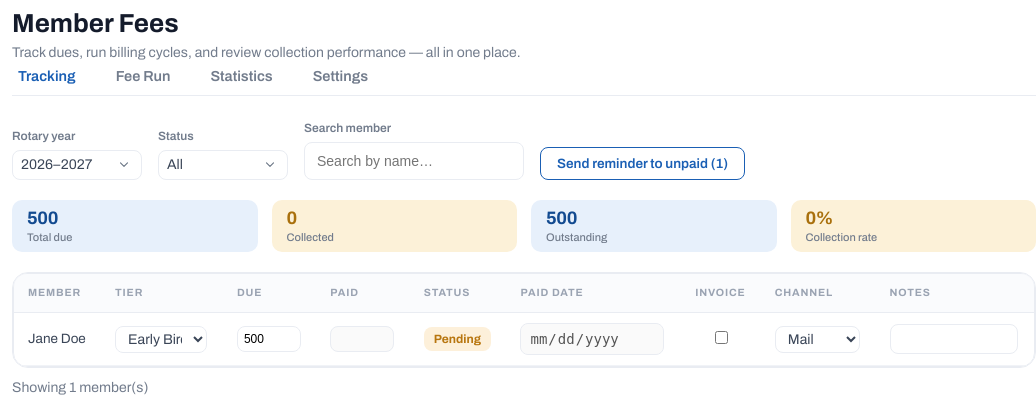
MemberFees › Tracking tab › amends the tier and due amount, and Total Due reflects the change
The width and height of the screenshot is (1036, 412).
Select "Sponsored" in the dropdown named "tier for jane doe" at {"x": 161, "y": 339}, box left=115, top=326, right=207, bottom=353
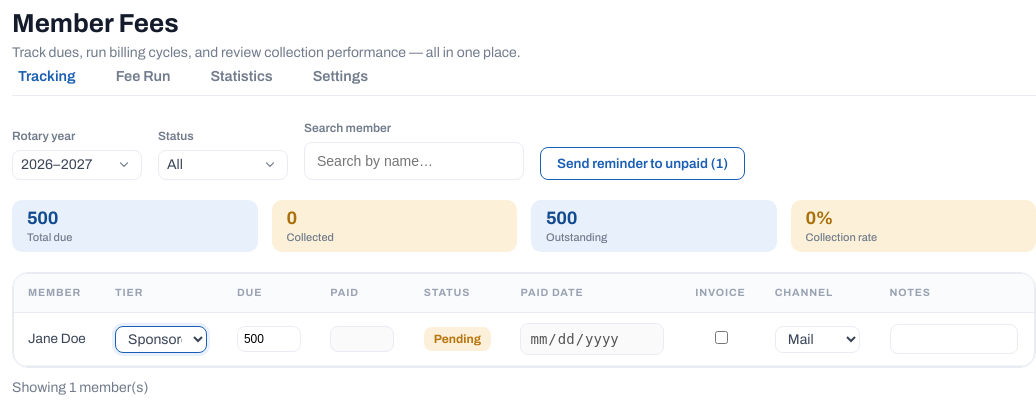
Replace the text in the number field named "due amount for jane doe" with "350" at {"x": 269, "y": 339}, box left=237, top=326, right=301, bottom=352
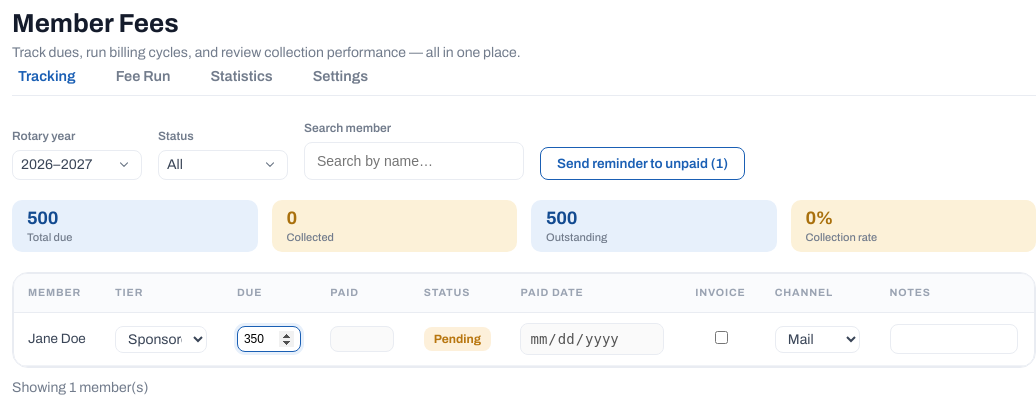
Press Tab
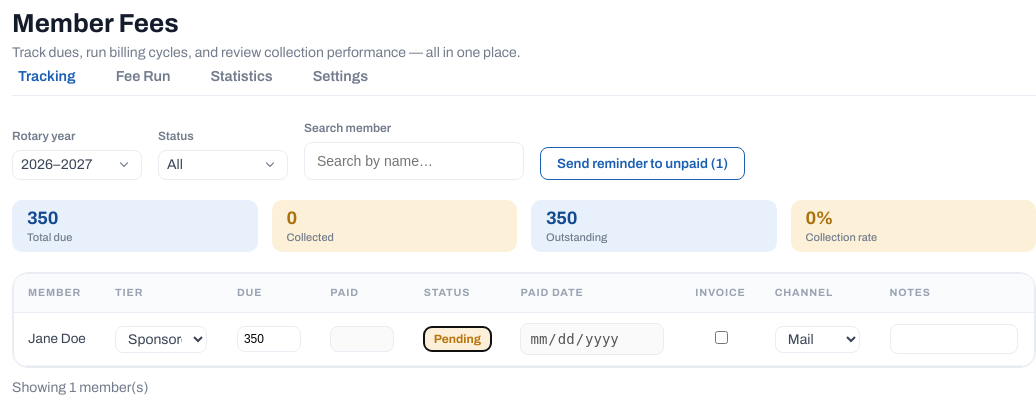
Expected: the 1st text "350" is shown, left=27, top=208, right=58, bottom=228
